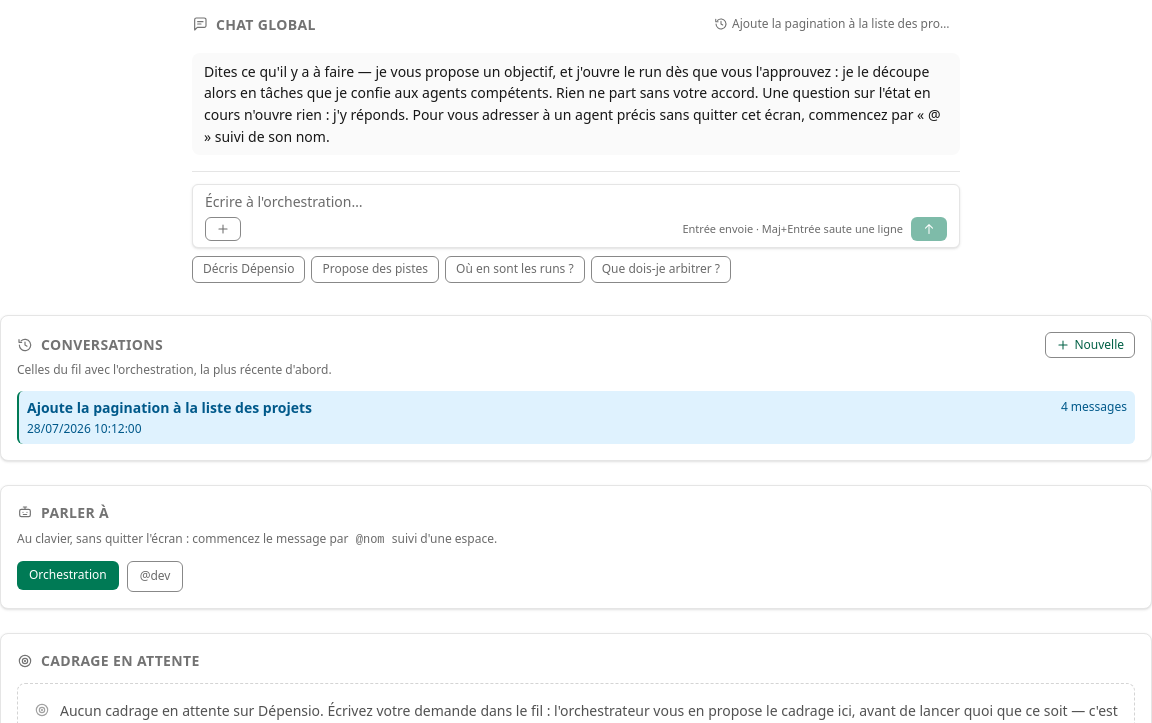
le composeur sur le chat global (/chat) › ⑤ rien de #482 n'est perdu › ouvre les trois gestes de dépôt derrière « Joindre des sources… »
Click the button named "Joindre des sources…": x=223, y=229 [205, 217, 241, 241]
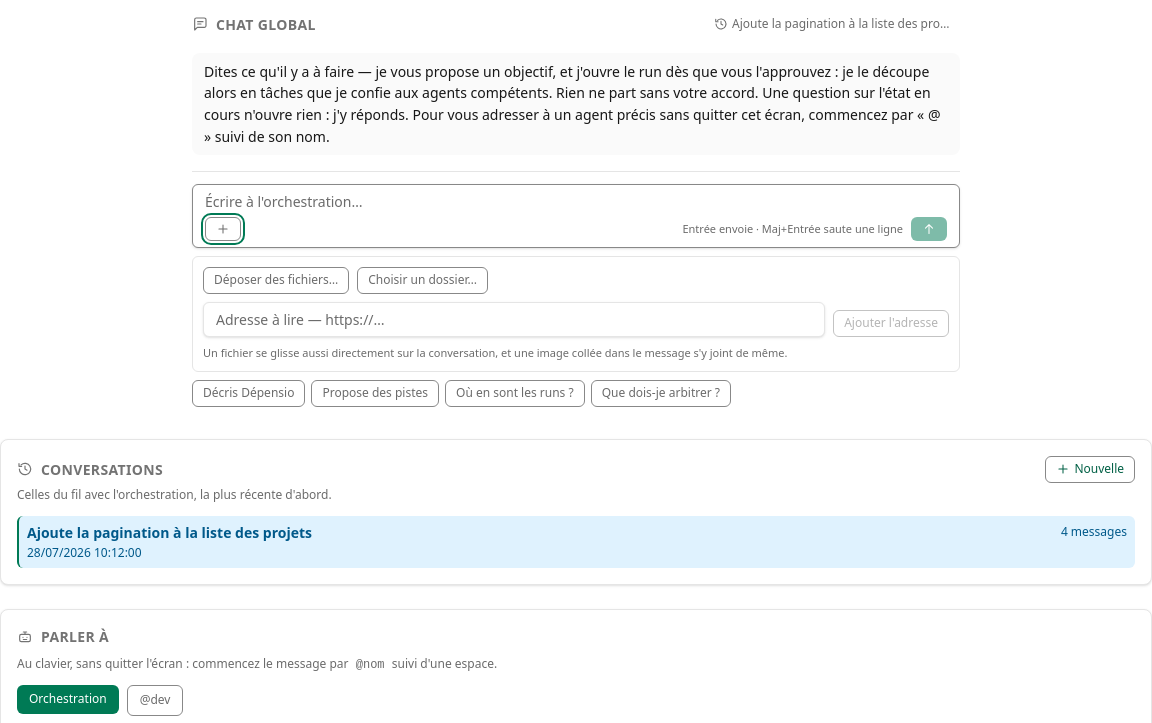
Now the button "Choisir un dossier…" is shown, box [357, 267, 488, 294]
Now the field labelled "Adresse à lire" is shown, box [203, 302, 825, 337]
Now the button "Ajouter l'adresse" is shown, box [833, 310, 949, 337]
